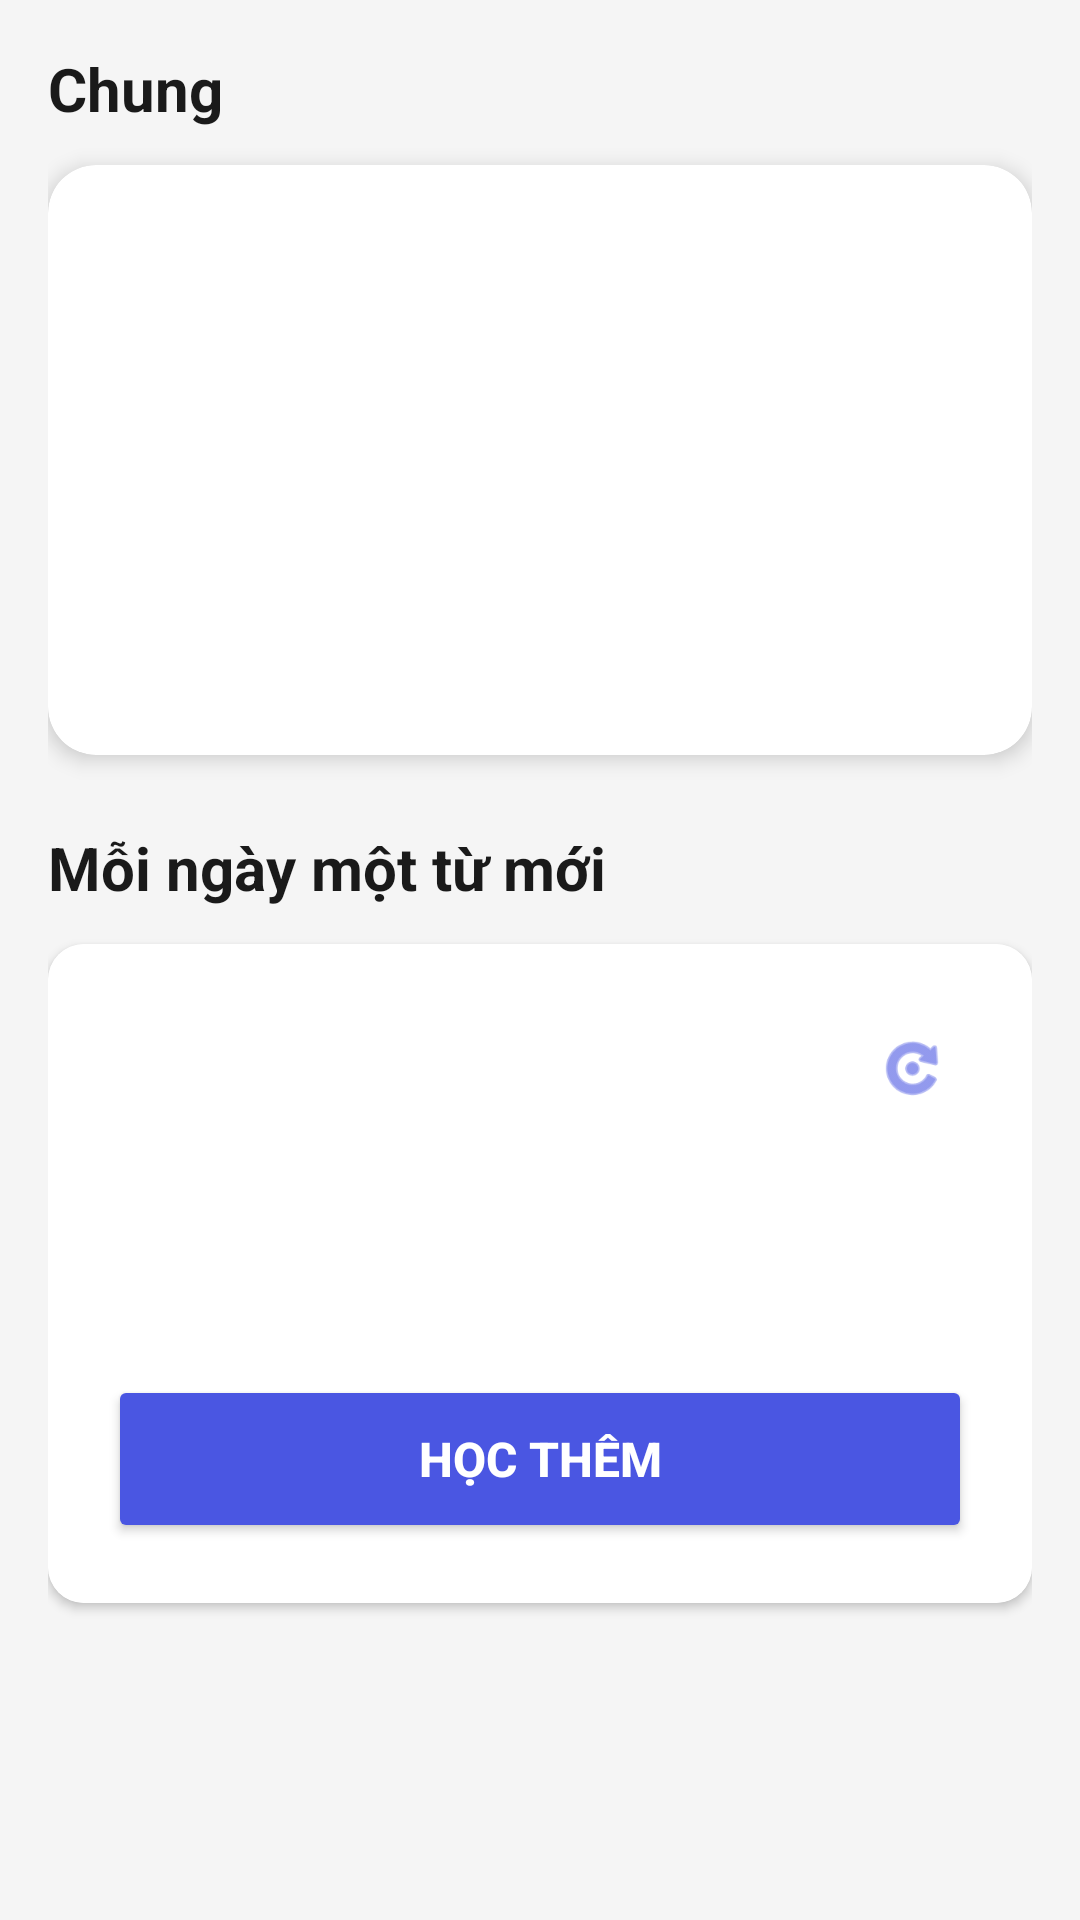

Icon click points for this 1080 × 1920 phone screenshot, format point (x, y):
rotate: point (912, 1068)
